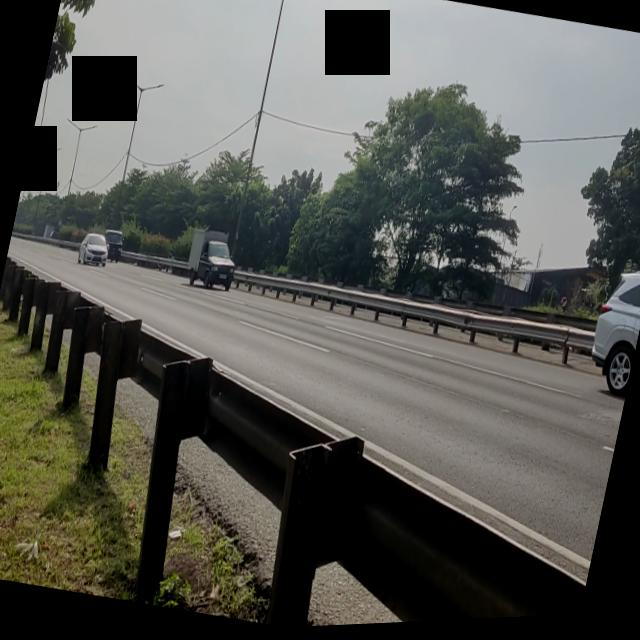Golongan I: (178, 222, 244, 298)
